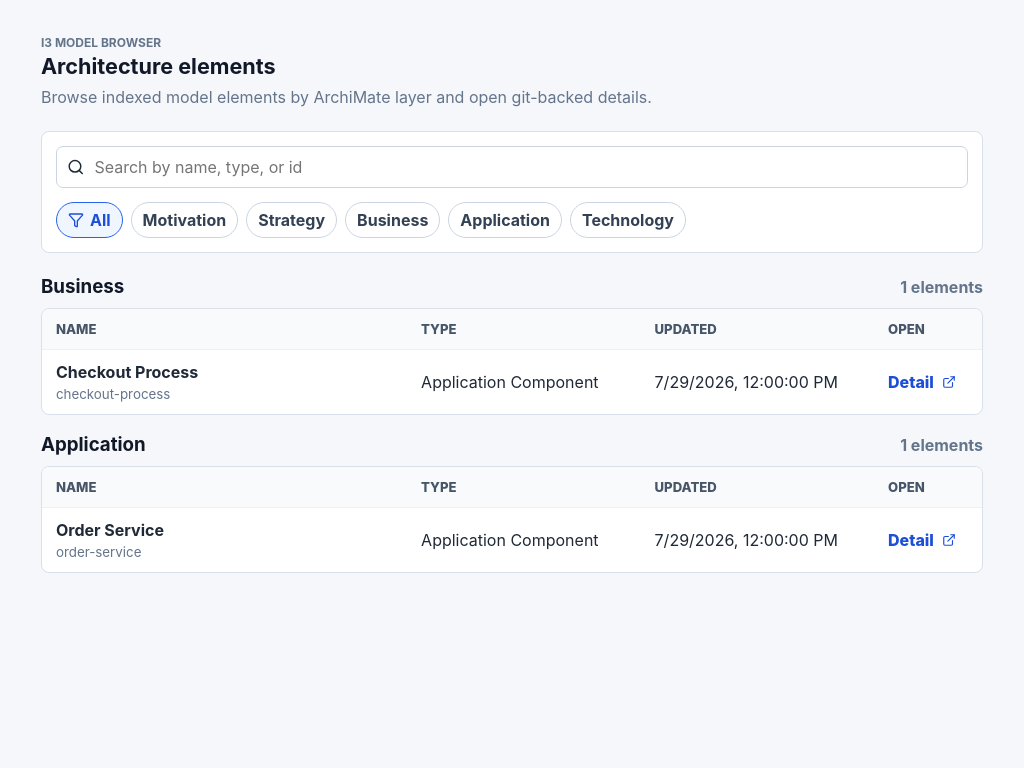
ElementsPage › groups model elements by layer and filters by search
The image size is (1024, 768).
Expected: the heading "Application" is shown, [41,433,146,456]
Expected: the heading "Business" is shown, [41,275,124,298]
Step 1. Type "checkout" into the field named "Search model elements" → {"x": 526, "y": 167}, box [94,147,957,187]
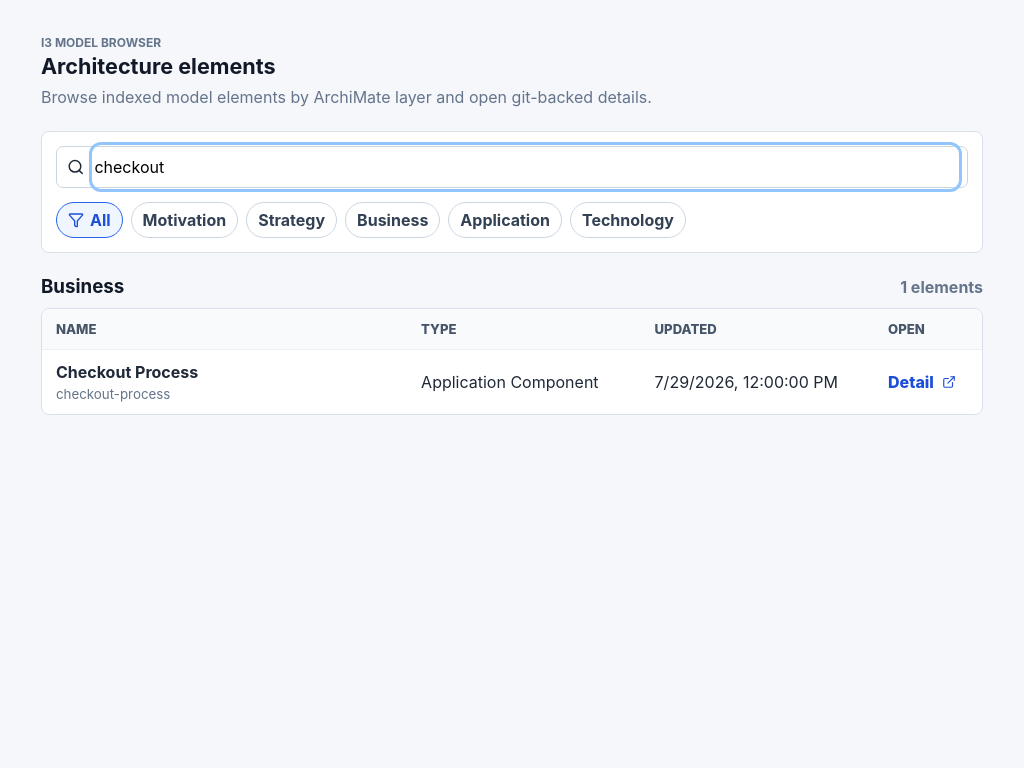
Expected: the text "Checkout Process" is shown, [56,362,198,382]
Result: the text "Order Service" is gone
